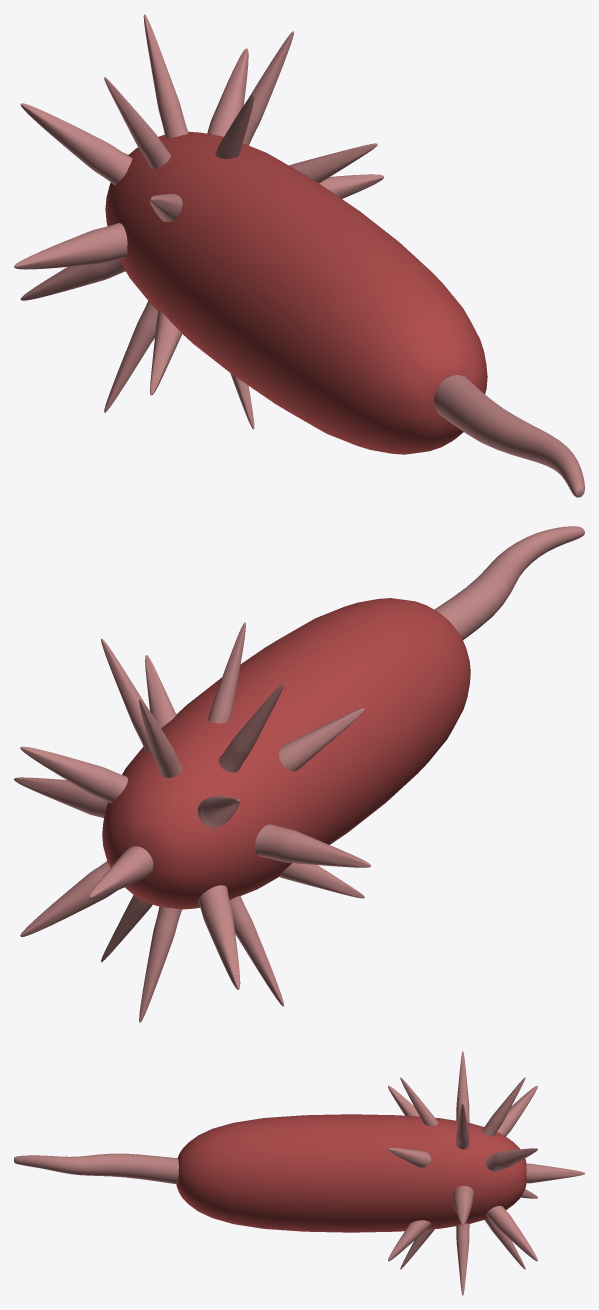
Rendered from enemyattack.fbx.
3 views of the same model, one above another, from view 1: azimuth 30°, elevation 25°; view 2: azimuth 150°, elevation 25°; view 3: azimuth 270°, elevation 25° (orthographic). The views are drawn at different scales.
Visible parts, largest first — view 1: enemyattack; view 2: enemyattack; view 3: enemyattack.
Part boxes in pixels (x1,y1,x2,y2): enemyattack: [14, 14, 584, 497]; enemyattack: [14, 526, 584, 1022]; enemyattack: [14, 1051, 584, 1295].
Bounding box in the file's own units: 1.05 × 0.9138 × 2.46.
